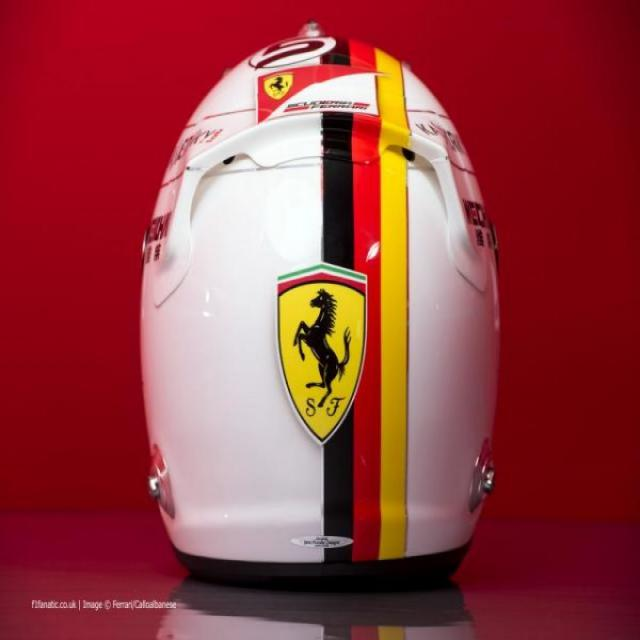Helmet: (127, 25, 503, 602)
